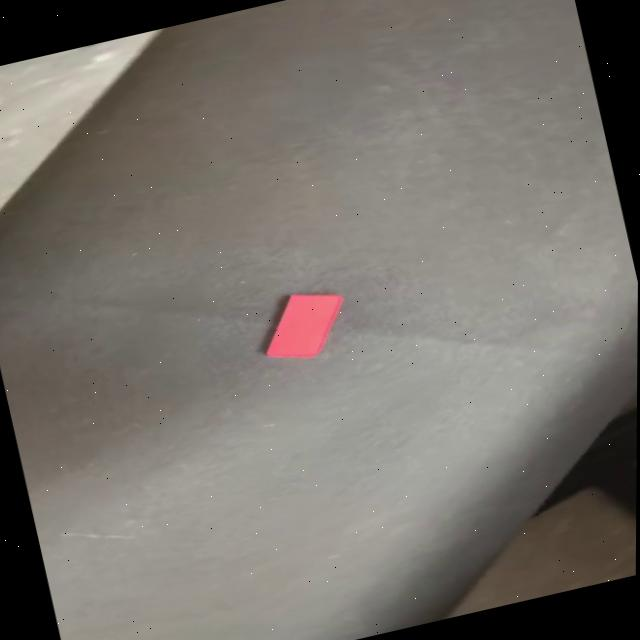red block: (251, 282, 354, 368)
